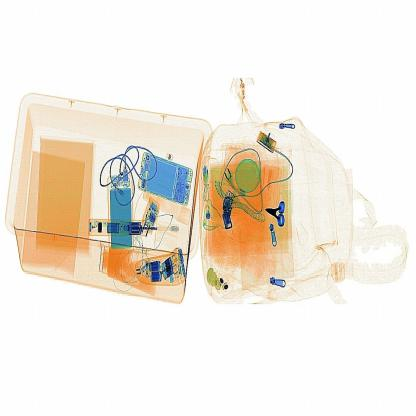gun: (262, 196, 298, 237)
